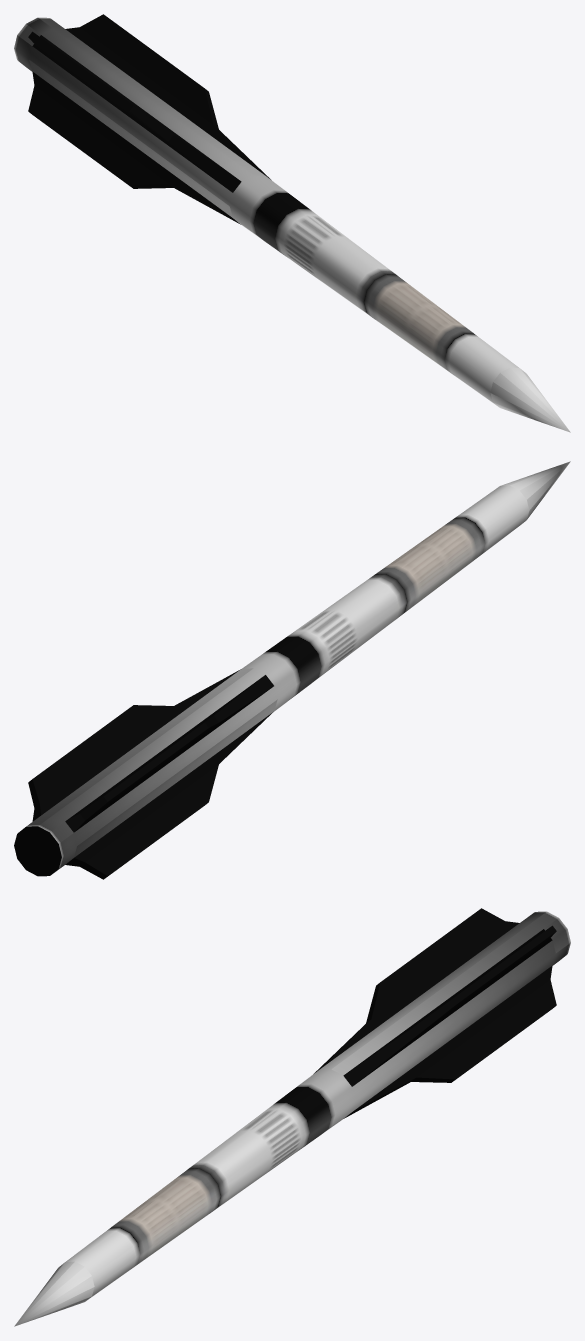
Rendered from sam2.fbx.
The picture shows the model from 3 angles, top to bottom: view 1: azimuth 30°, elevation 25°; view 2: azimuth 150°, elevation 25°; view 3: azimuth 330°, elevation 25°; orthographic projection.
Visible parts, largest first — view 1: sam2; view 2: sam2; view 3: sam2.
Boxes of the visible parts, x1=… form: sam2: x1=14, y1=14, x2=570, y2=432; sam2: x1=14, y1=461, x2=570, y2=879; sam2: x1=14, y1=908, x2=570, y2=1326.
Bounding box in the file's own units: 22.41 × 22.41 × 260.
